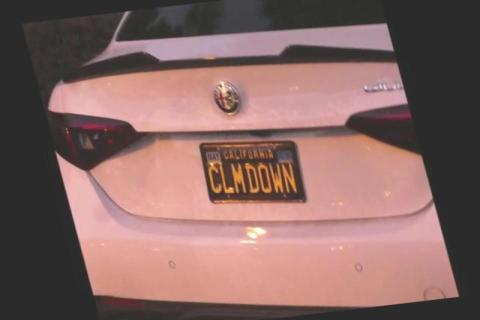LicensePlate: (189, 122, 319, 222)
